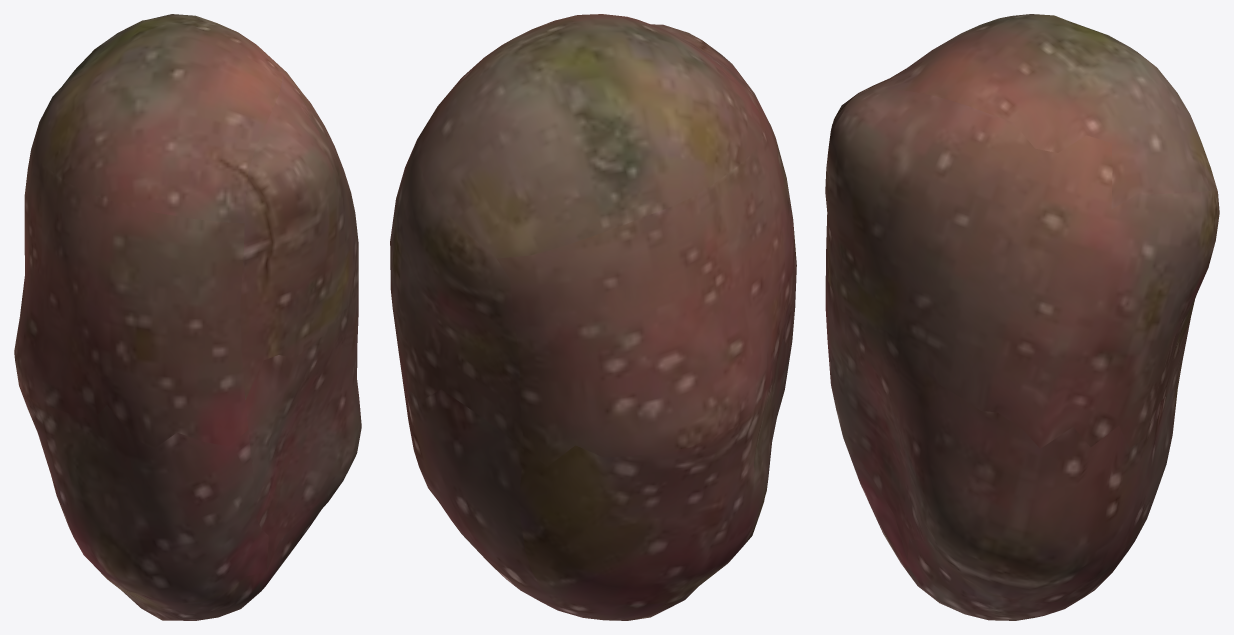
File: sweet_potato.glb
The picture shows the model from 3 angles, left to right: view 1: azimuth 30°, elevation 25°; view 2: azimuth 150°, elevation 25°; view 3: azimuth 270°, elevation 25°; orthographic projection. The views are drawn at different scales.
Parts seen in each view (by area): view 1: sweet_potato_lod0; view 2: sweet_potato_lod0; view 3: sweet_potato_lod0.
Boxes of the visible parts, x1=… form: sweet_potato_lod0: x1=14, y1=14, x2=361, y2=620; sweet_potato_lod0: x1=390, y1=14, x2=796, y2=620; sweet_potato_lod0: x1=825, y1=14, x2=1219, y2=620.
Size of what is drawn, in the model's own units: 0.0581 by 0.1005 by 0.061.
1 material, 1 textured.
